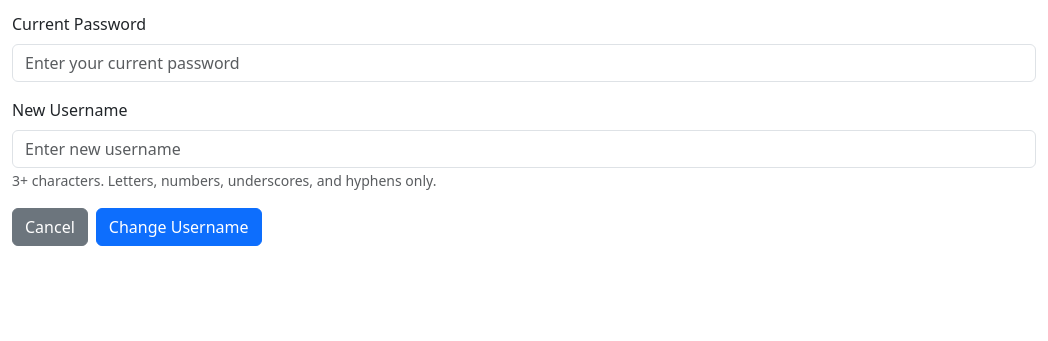
Test: ChangeUsername › validation errors › displays error when new username is empty
Type "password123" into the password field labelled "Current Password" at (524, 63), box [12,44,1036,82]
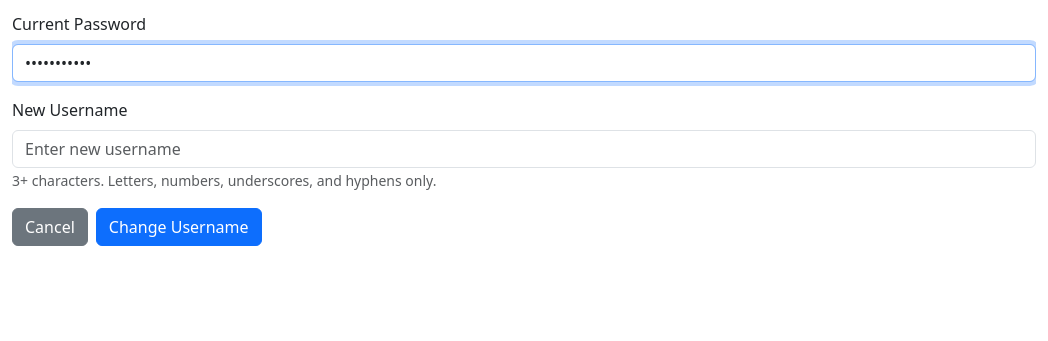
Click the button "Change Username" at (179, 227), box [96,208,262,246]
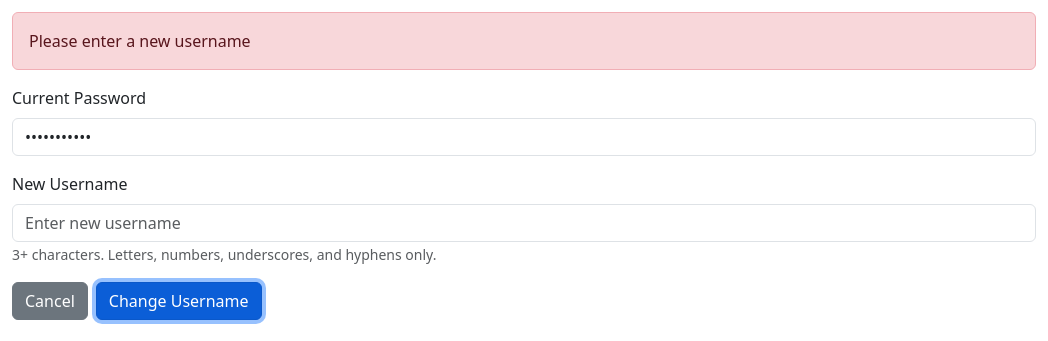
Result: the text "Please enter a new username" is shown at [12,12,1036,70]
